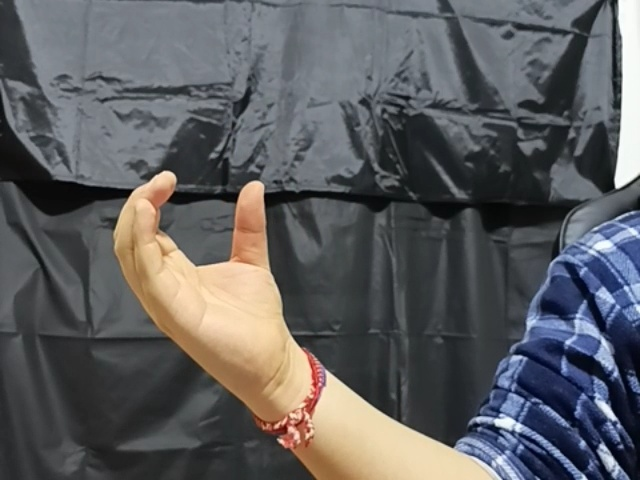C: (106, 171, 319, 374)
